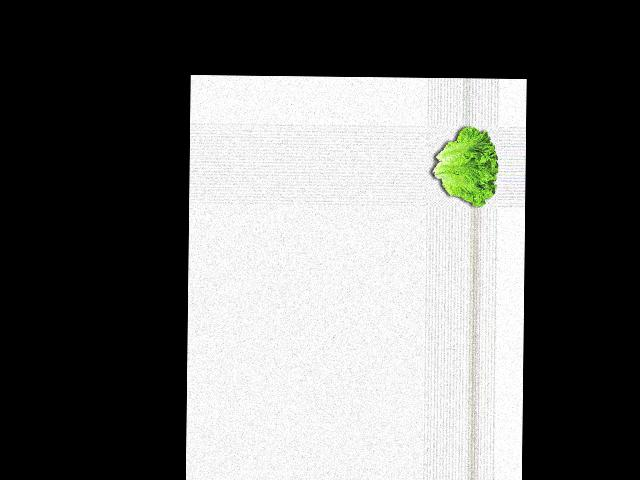lettuce: (430, 124, 498, 205)
